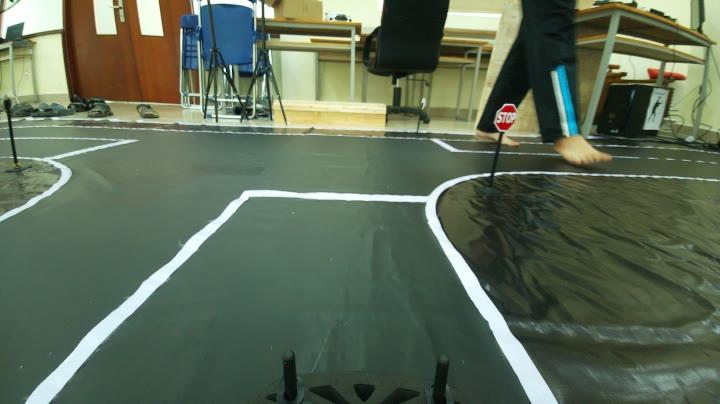stop: (491, 99, 524, 139)
